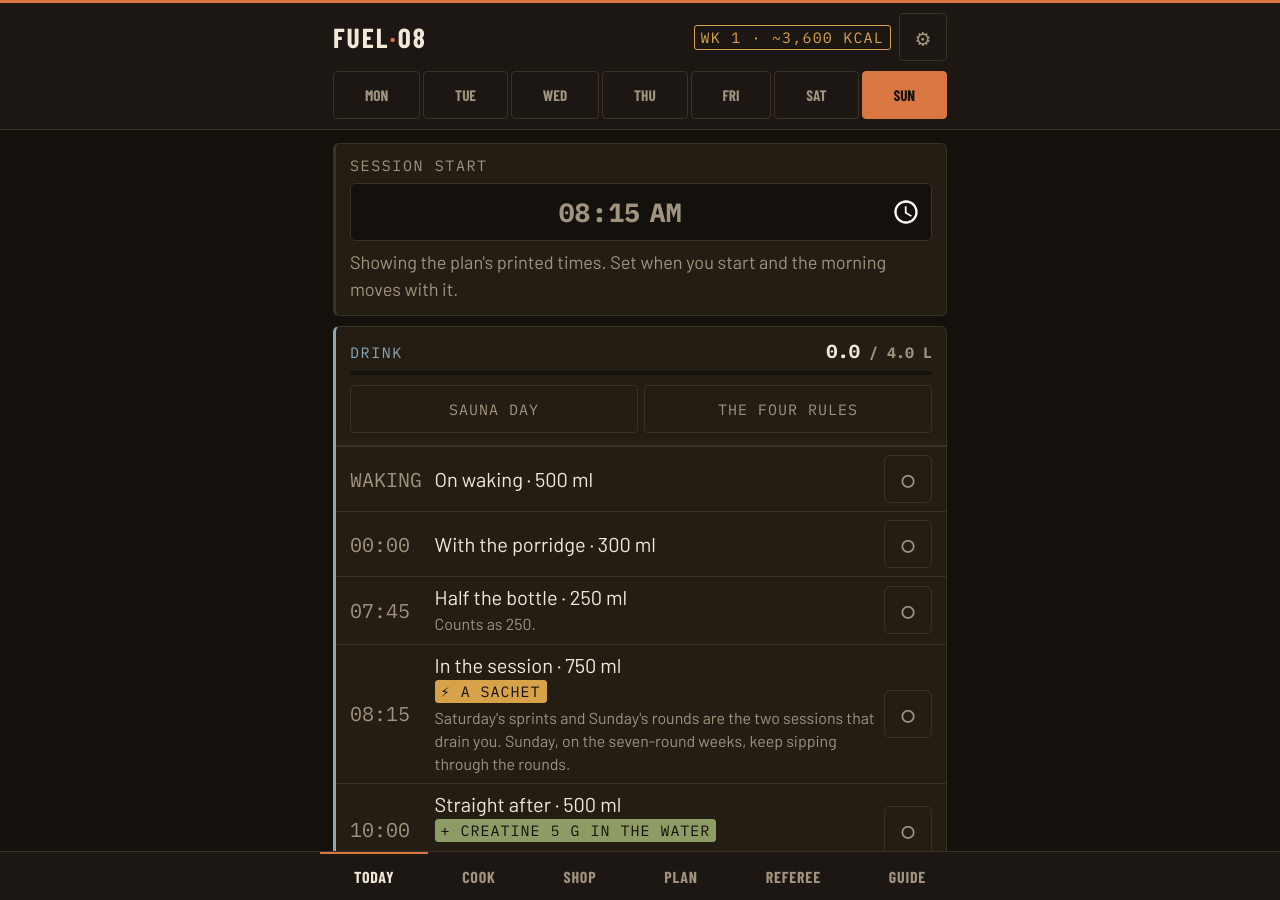
Test: Fuel · Optimal 8 Fighter › opens Settings with its break times and session lengths
The width and height of the screenshot is (1280, 900).
Click the button named "Settings": (923, 37) x1=899 y1=13 x2=947 y2=61
(page scrolled)
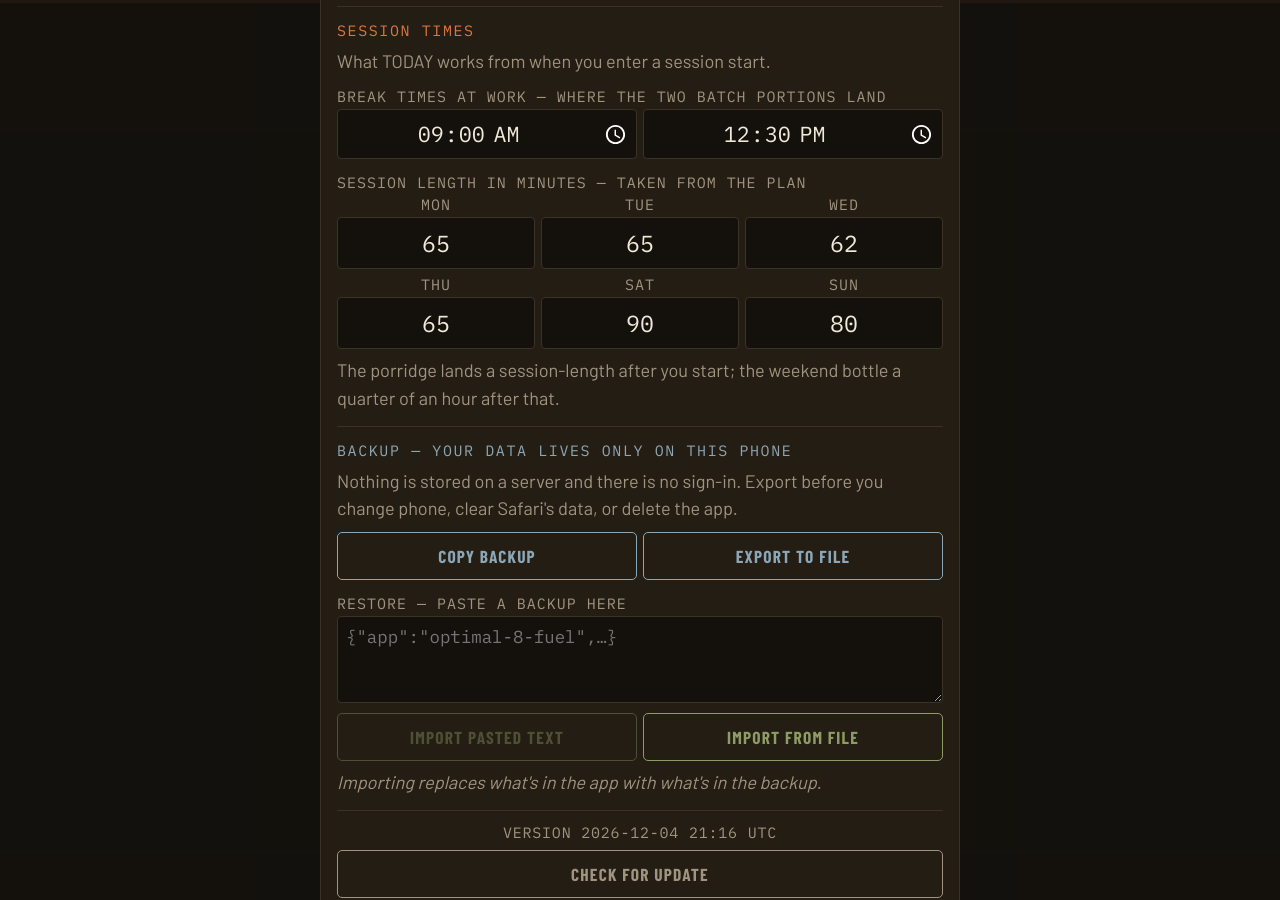
Check: the text "Break times at work — where the two BATCH portions land" is shown, box x1=337 y1=87 x2=943 y2=106
Check: the text "Session length in minutes — taken from the plan" is shown, box x1=337 y1=173 x2=807 y2=192
Check: the text "Backup — your data lives only on this phone" is shown, box x1=337 y1=441 x2=792 y2=460
